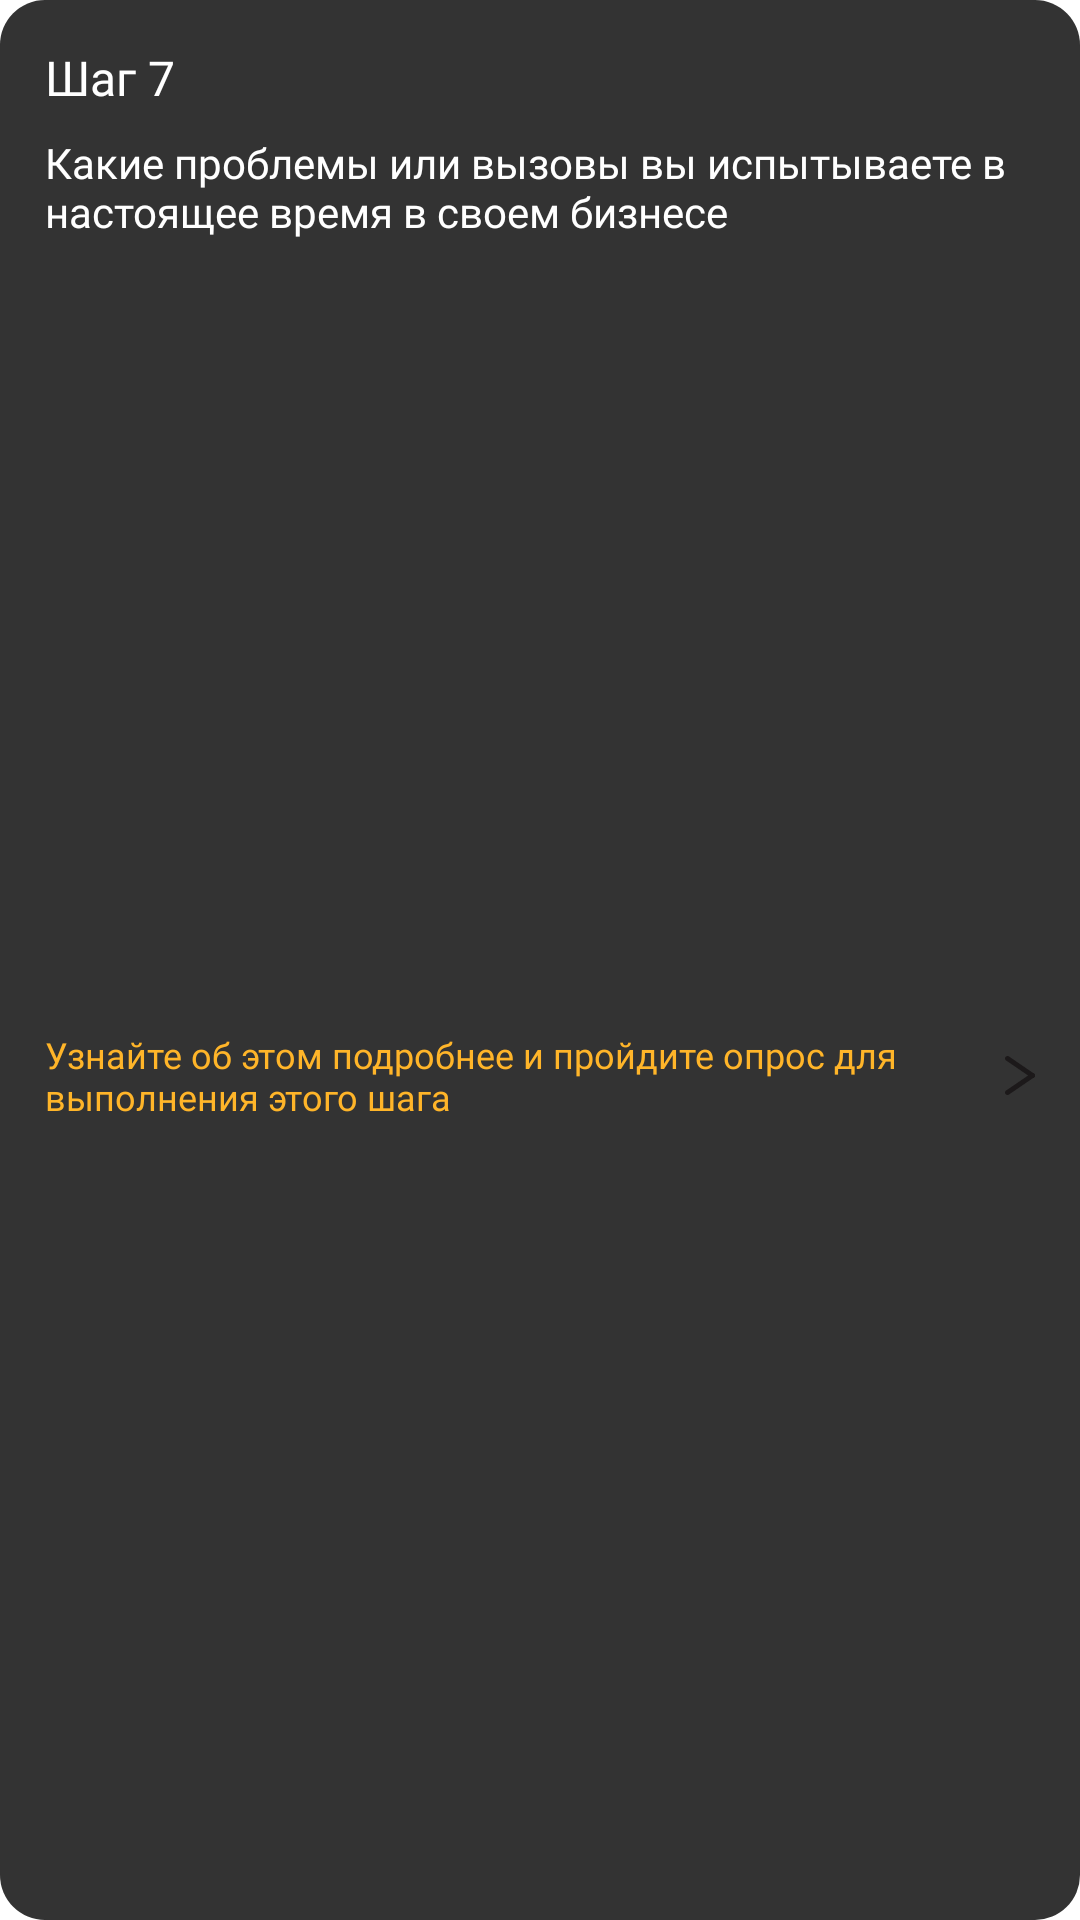

Where icons sit on this 1080×1920 app screen, as (x1, y1, x2, y2):
strelka faza: (1005, 1056, 1035, 1095)
